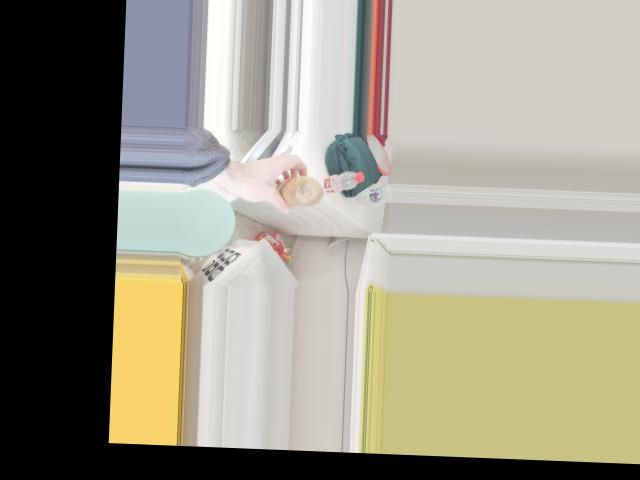sweet_potato: (269, 167, 323, 211)
